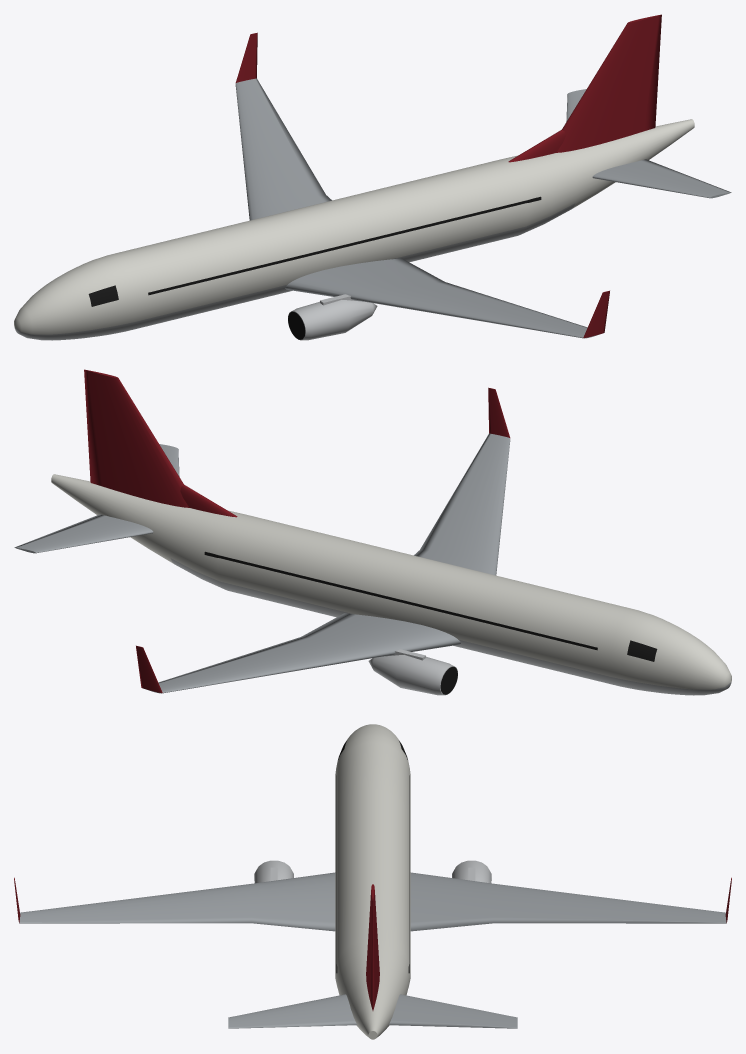
3 renders of one model, top to bottom at view 1: azimuth 30°, elevation 25°; view 2: azimuth 150°, elevation 25°; view 3: azimuth 270°, elevation 25°, orthographic.
Visible parts, largest first — view 1: b738; view 2: b738; view 3: b738.
Boxes of the visible parts, x1,y1,x2,y2 form: b738: [14, 14, 731, 340]; b738: [14, 369, 731, 695]; b738: [14, 724, 731, 1039].
Size of the model in its own units: 39.47 by 10.65 by 35.61.
